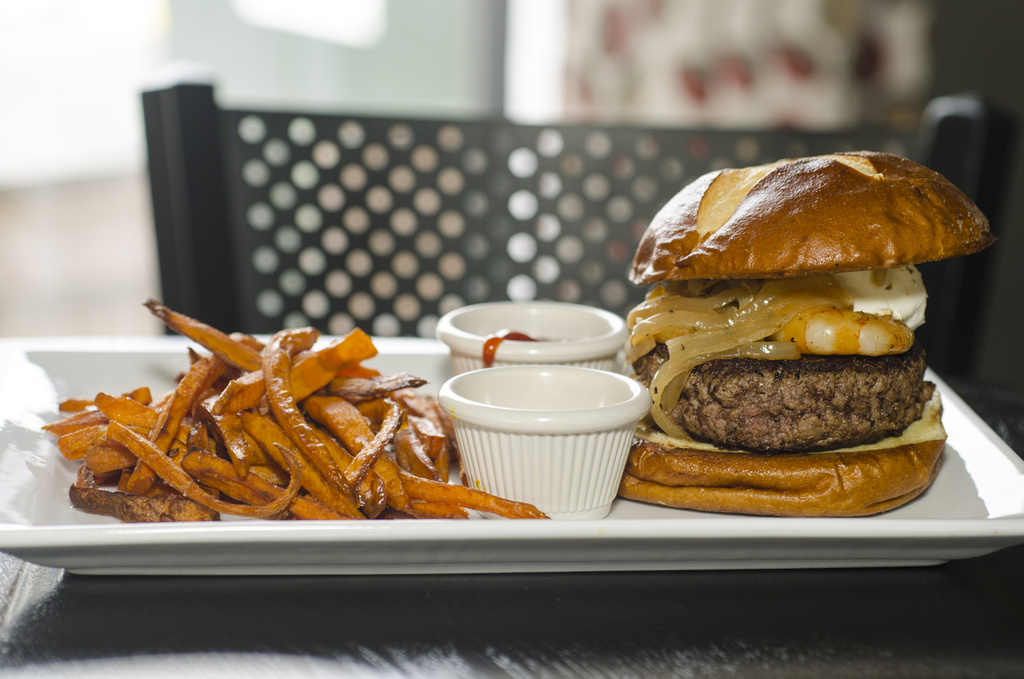Hamburger: (613, 152, 992, 519)
